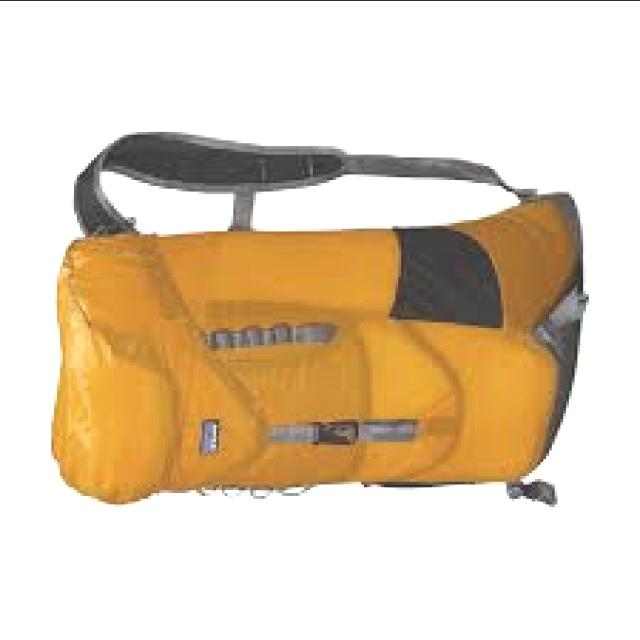backpack: (49, 132, 587, 510)
